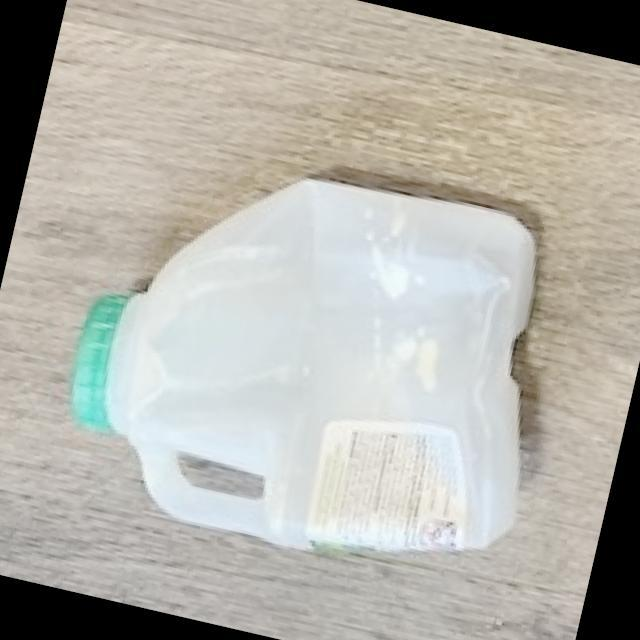HDPE Plastic: (72, 172, 540, 558)
